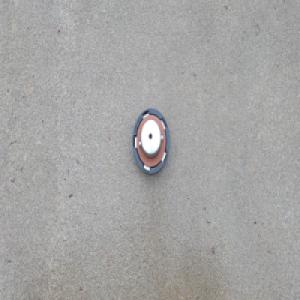FuelCap: (130, 105, 170, 175)
